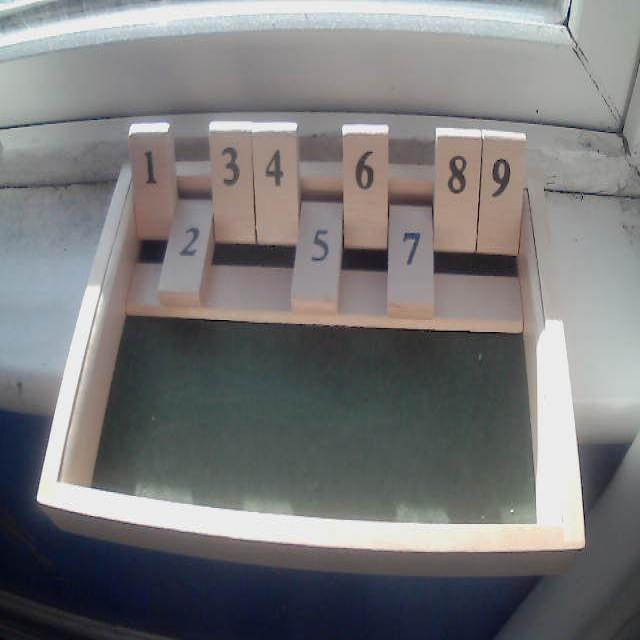C2: (162, 162, 209, 310)
C5: (294, 162, 342, 315)
C7: (389, 166, 434, 320)
O1: (125, 123, 170, 307)
O3: (208, 122, 254, 310)
O4: (250, 122, 297, 312)
O6: (341, 125, 388, 316)
O8: (436, 128, 481, 322)
O9: (478, 129, 528, 322)
